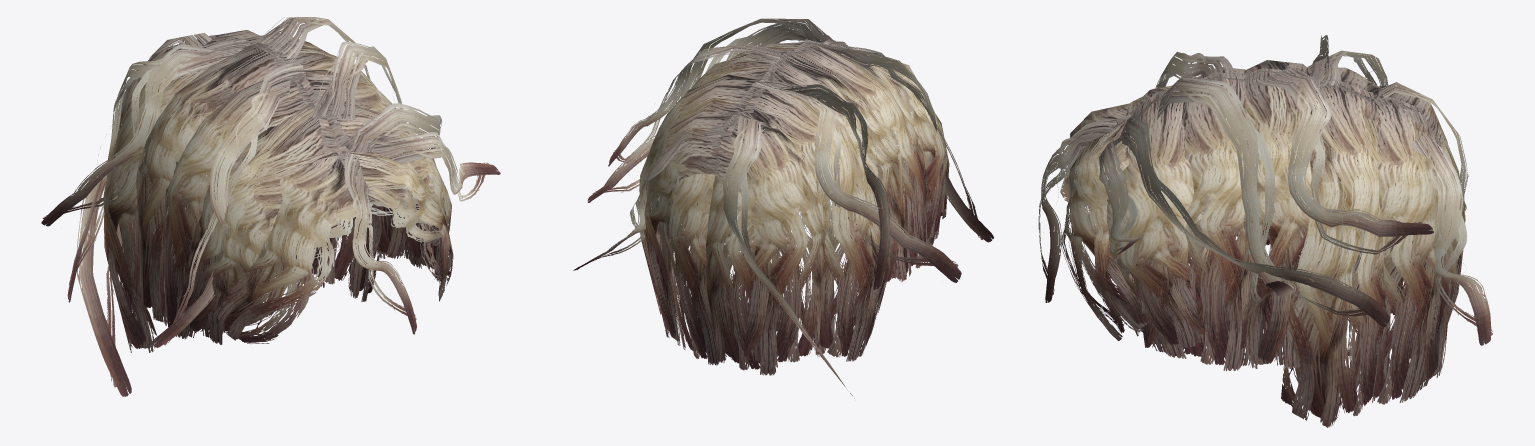
The model's file is mh_cortu_short_messy_hair.glb.
The picture shows the model from 3 angles, left to right: view 1: azimuth 30°, elevation 25°; view 2: azimuth 150°, elevation 25°; view 3: azimuth 270°, elevation 25°; orthographic projection. The views are drawn at different scales.
Parts seen in each view (by area): view 1: mh_cortu_short_messy_hair; view 2: mh_cortu_short_messy_hair; view 3: mh_cortu_short_messy_hair.
Boxes of the visible parts, x1=… form: mh_cortu_short_messy_hair: x1=41, y1=17, x2=500, y2=396; mh_cortu_short_messy_hair: x1=573, y1=18, x2=993, y2=398; mh_cortu_short_messy_hair: x1=1038, y1=35, x2=1492, y2=427.
Size of the model in its own units: 0.2712 by 0.2393 by 0.2648.
1 material, 1 textured.
